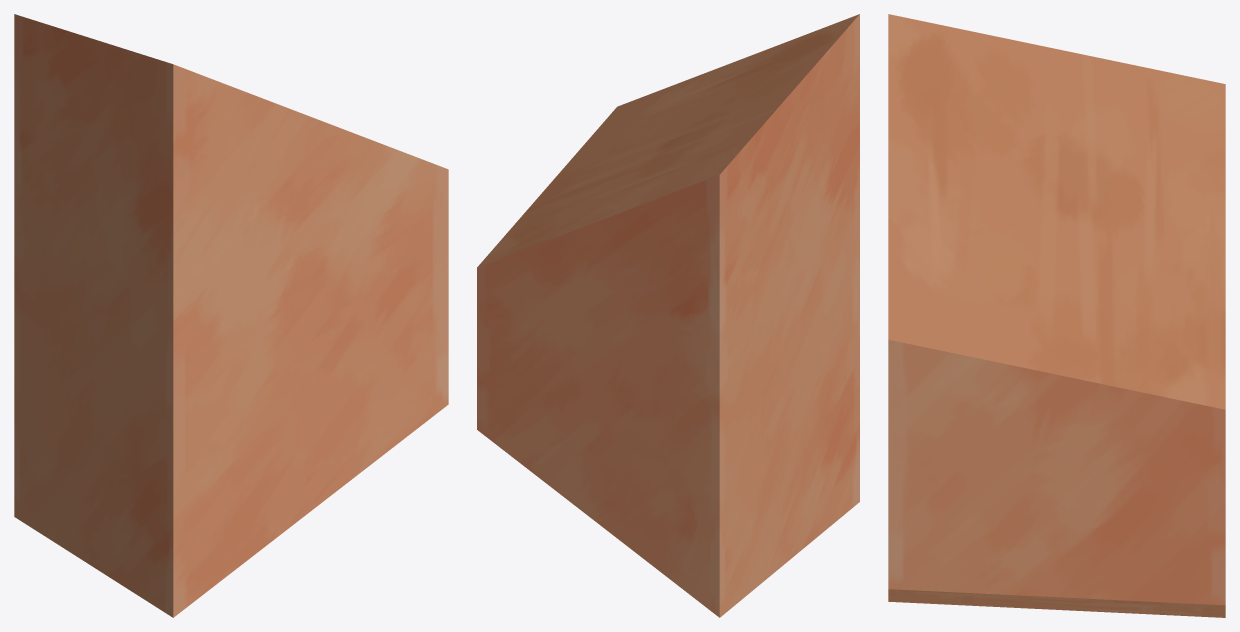
The model's file is corner_upper_s03.fbx.
The picture shows the model from 3 angles, left to right: view 1: azimuth 30°, elevation 25°; view 2: azimuth 150°, elevation 25°; view 3: azimuth 270°, elevation 25°; orthographic projection. The views are drawn at different scales.
Visible parts, largest first — view 1: corner_upper_s03; view 2: corner_upper_s03; view 3: corner_upper_s03.
Boxes of the visible parts, x1,y1,x2,y2 form: corner_upper_s03: [14, 14, 448, 617]; corner_upper_s03: [477, 14, 859, 617]; corner_upper_s03: [888, 14, 1225, 617].
Size of the model in its own units: 1.5 by 2.96 by 1.5.
